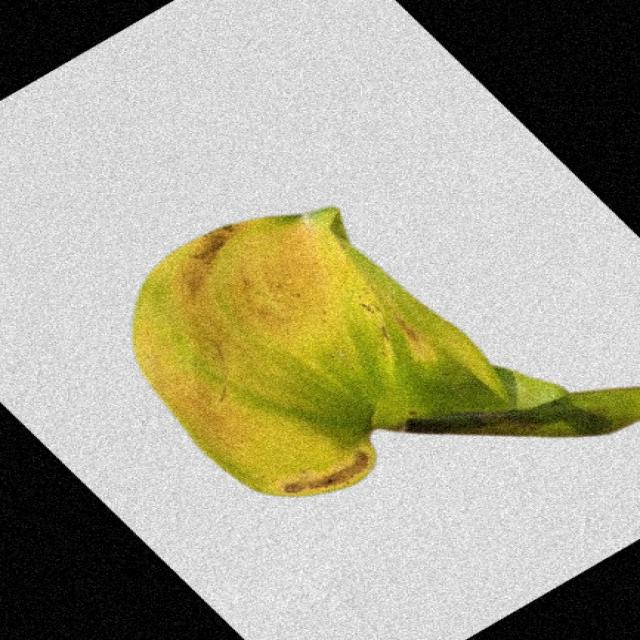daun berpenyakit kuning: (134, 208, 638, 496)
